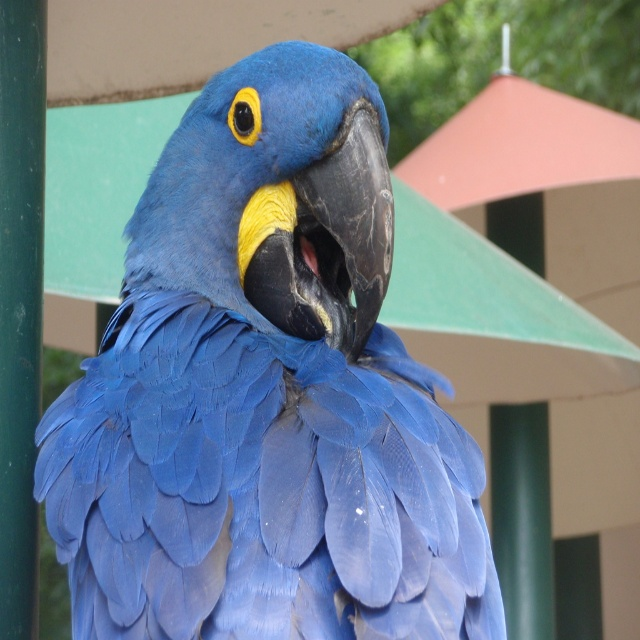Parrot: (33, 39, 508, 639)
